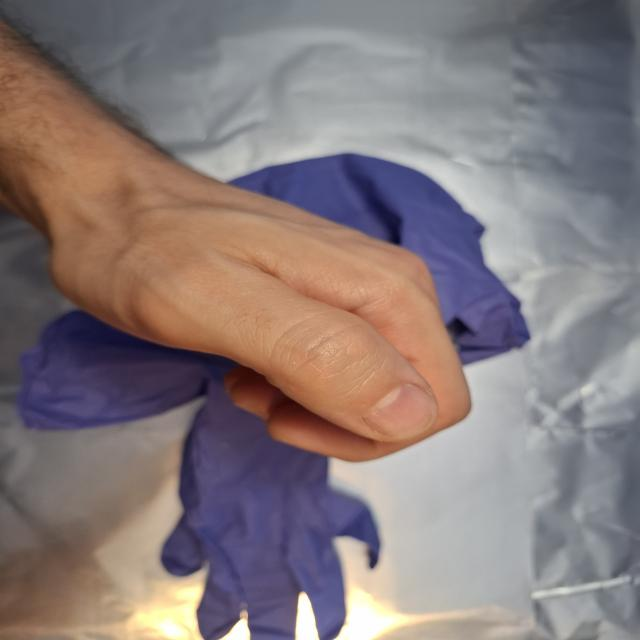glove_off: (44, 166, 476, 467)
